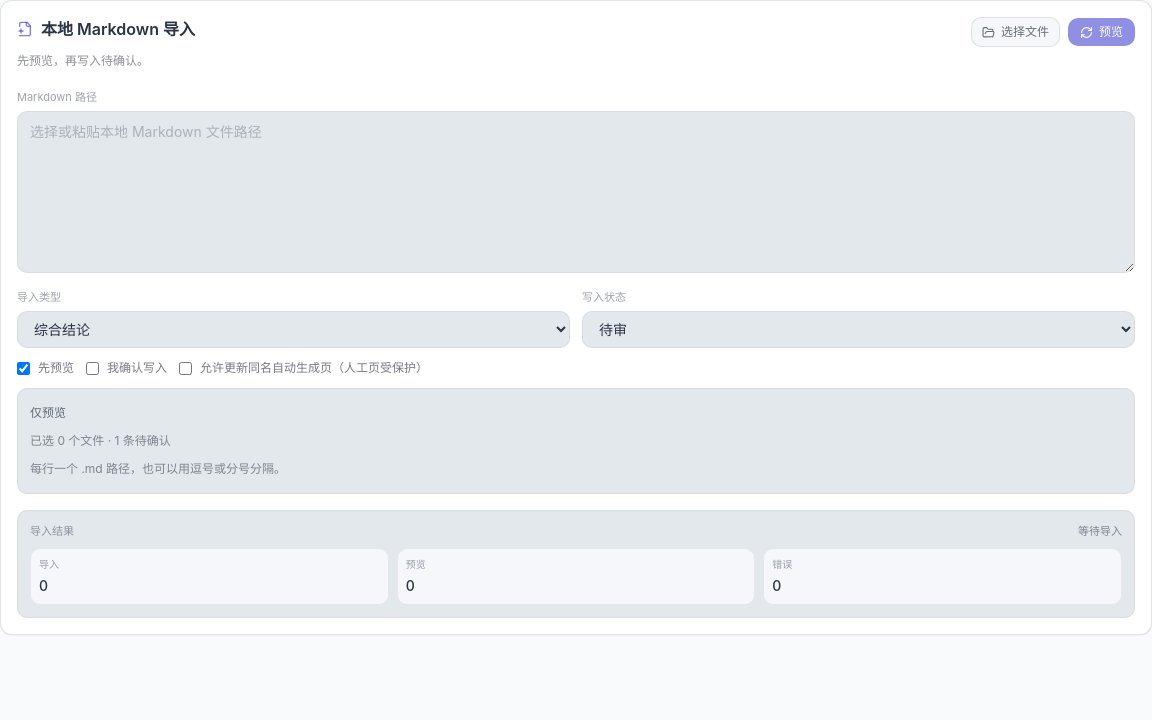
WikiImportMarkdownPanel › requires a second confirmation before overwrite mode can write
In the text box labelled "Markdown 路径": (576, 192) [17,111,1135,273], type "C:\\notes\\candidate.md"
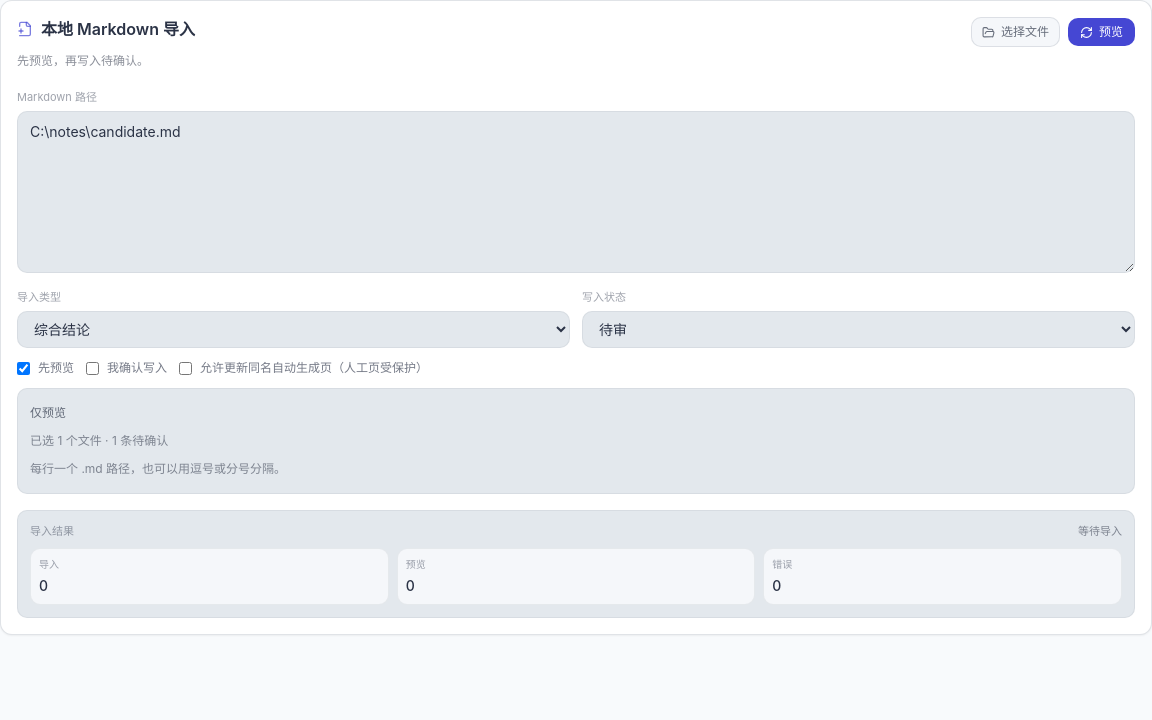
Click the checkbox labelled "先预览": click(24, 368) [17,362,30,374]
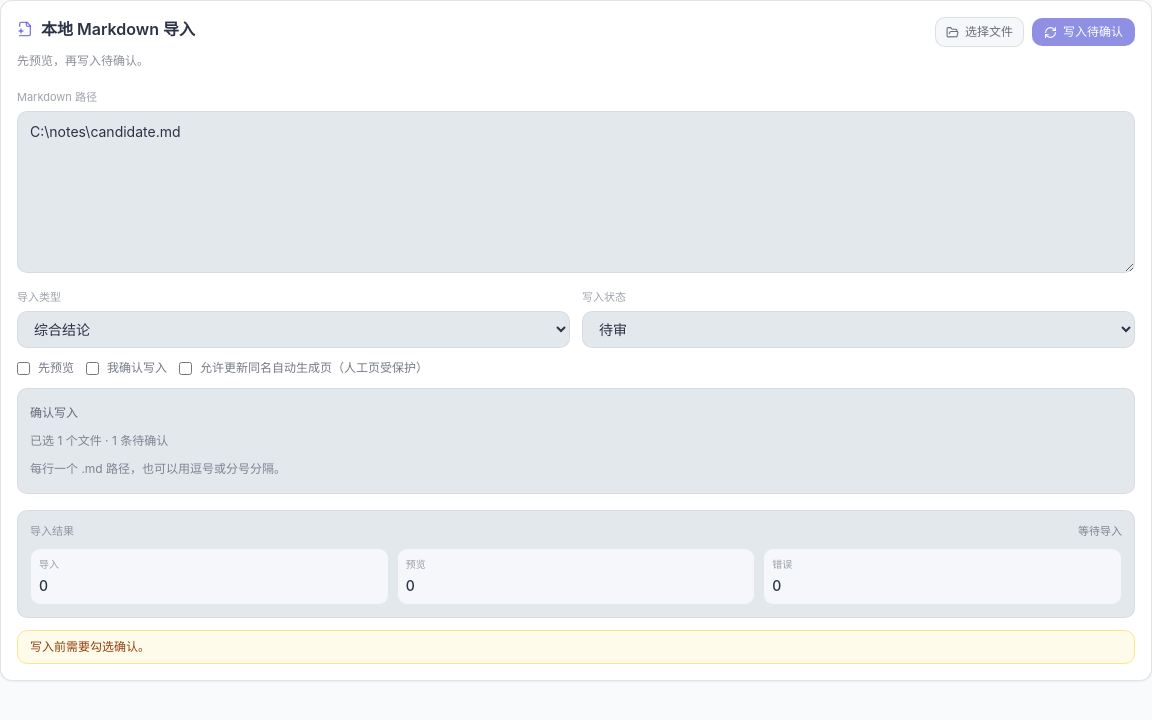
Click the checkbox labelled "我确认写入": click(92, 368) [86,362,99,374]
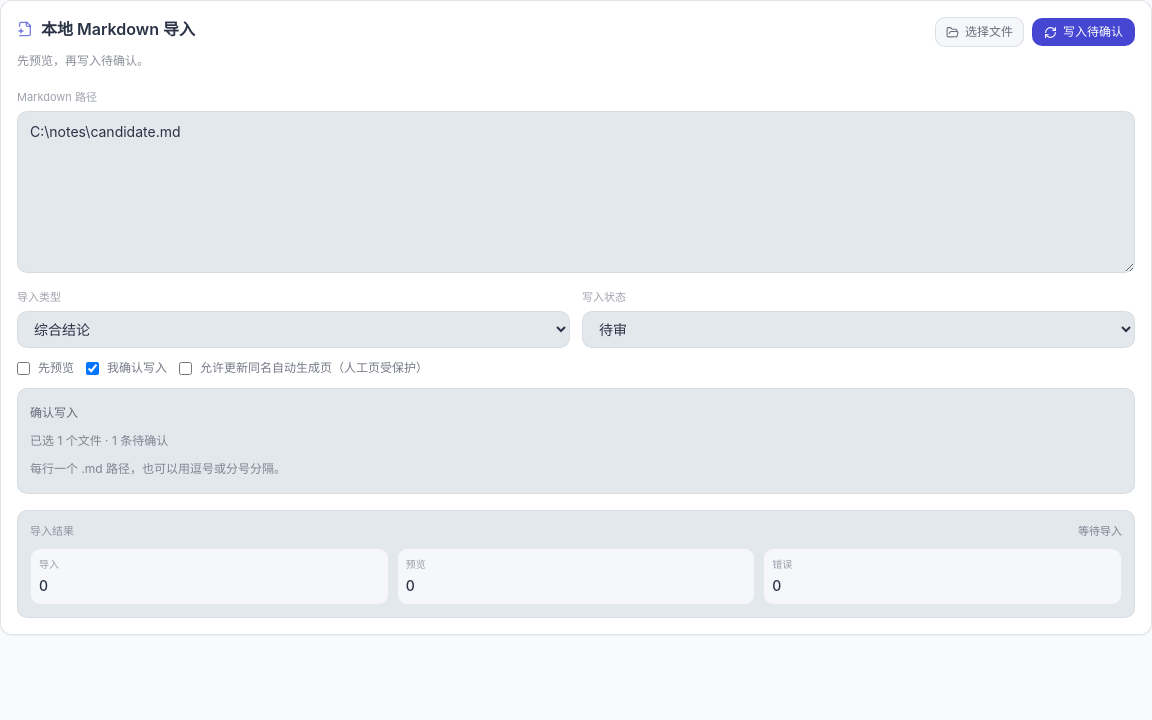
Click the checkbox labelled "允许更新同名自动生成页（人工页受保护）": click(186, 368) [179,362,192,374]
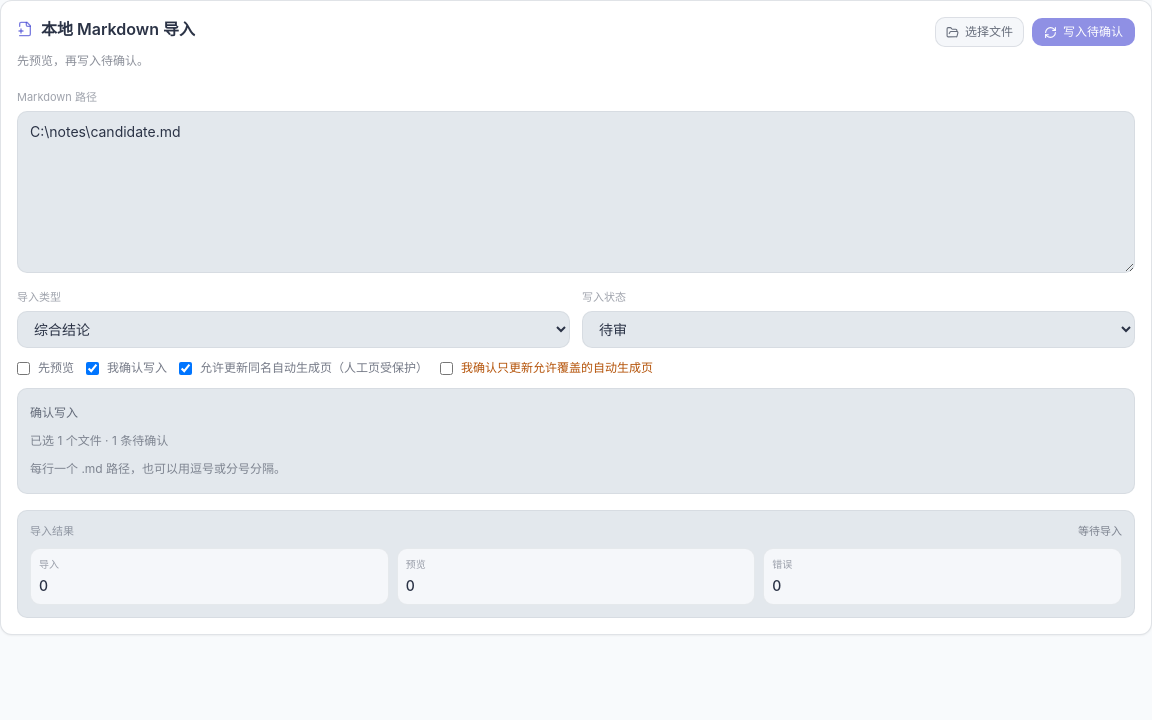
expect the button "写入待确认" is disabled: met, box [1032,18,1135,46]
expect the text "我确认只更新允许覆盖的自动生成页" is shown: met, box [440,360,653,376]
Click the checkbox labelled "我确认只更新允许覆盖的自动生成页": click(446, 368) [440,362,453,374]
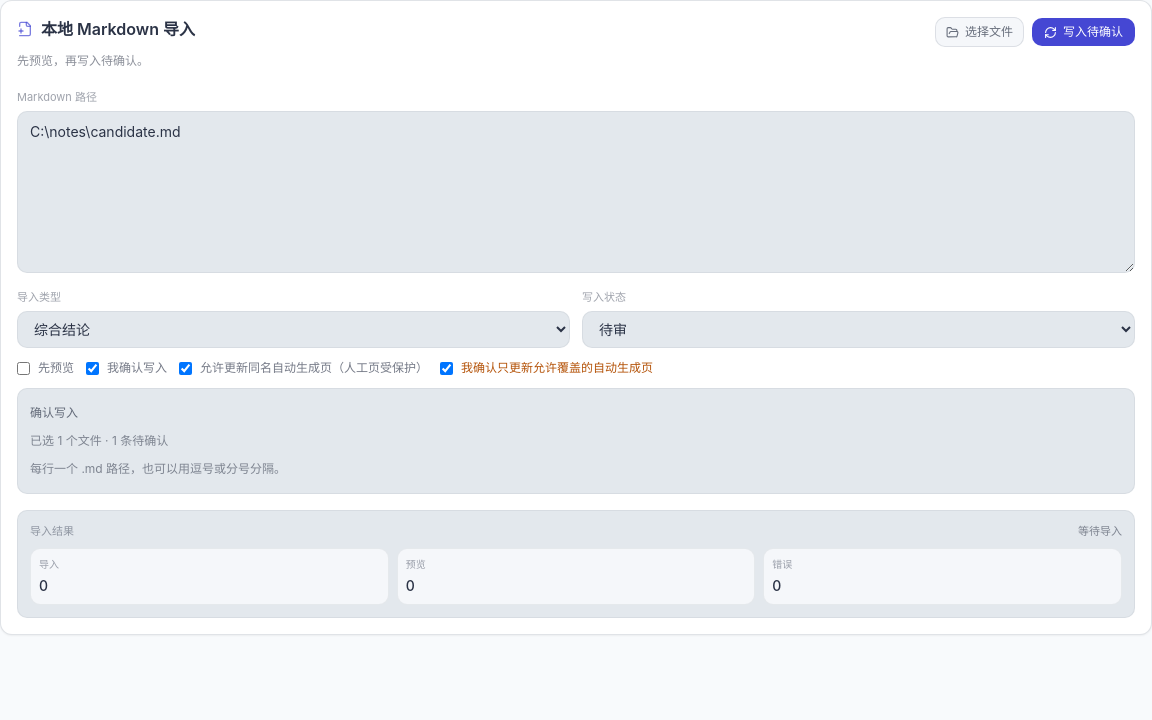
expect the button "写入待确认" is enabled: met, box [1032,18,1135,46]
